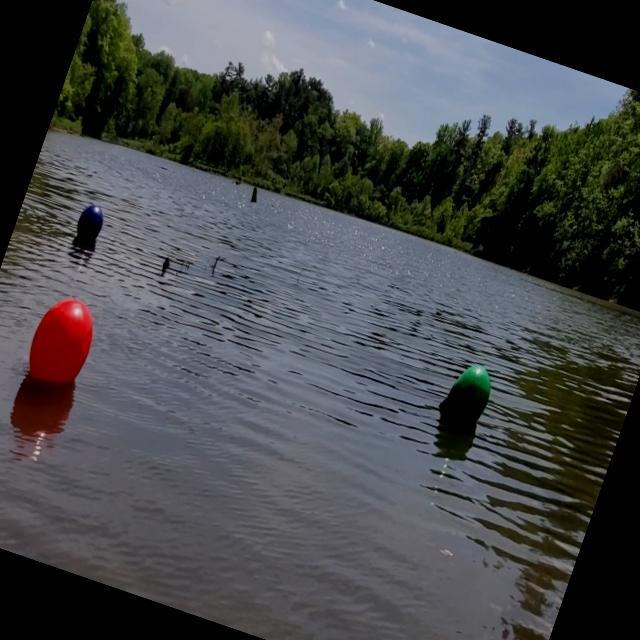buoy: (16, 285, 107, 400), (430, 350, 503, 435), (70, 198, 109, 249)
